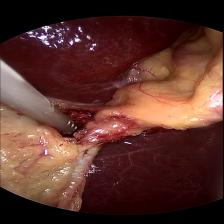Irrigator: (42, 109, 84, 134)
